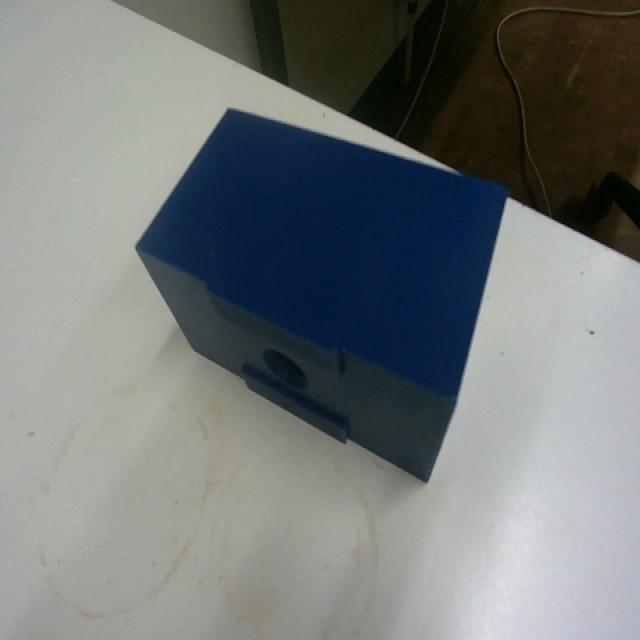Blue Cuboid: (133, 103, 511, 484)
